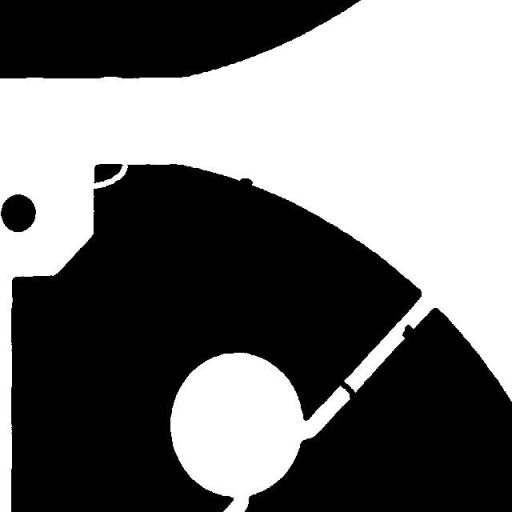open: (83, 156, 135, 196)
short: (330, 372, 362, 407)
spur: (394, 316, 422, 346), (232, 170, 260, 193)
